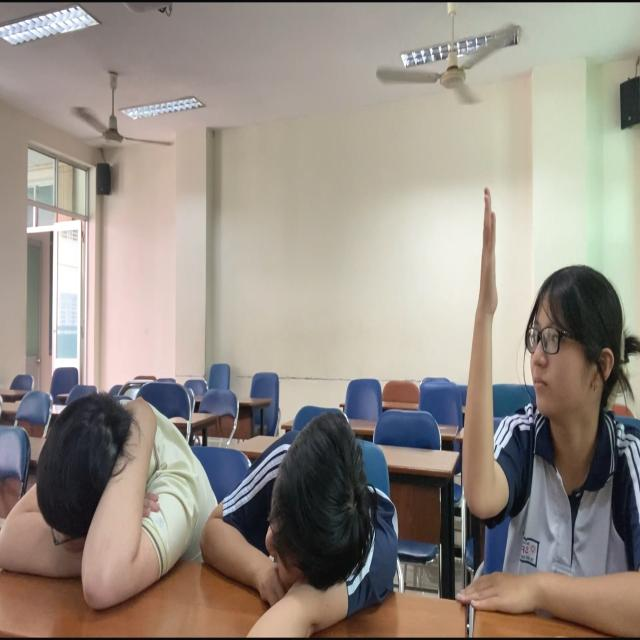raise_hand: (435, 144, 640, 640)
sleep: (194, 399, 423, 640), (1, 376, 199, 640)
